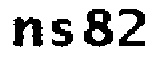2: (117, 6, 149, 51)
8: (80, 6, 115, 51)
n: (9, 12, 45, 50)
s: (47, 15, 76, 50)
